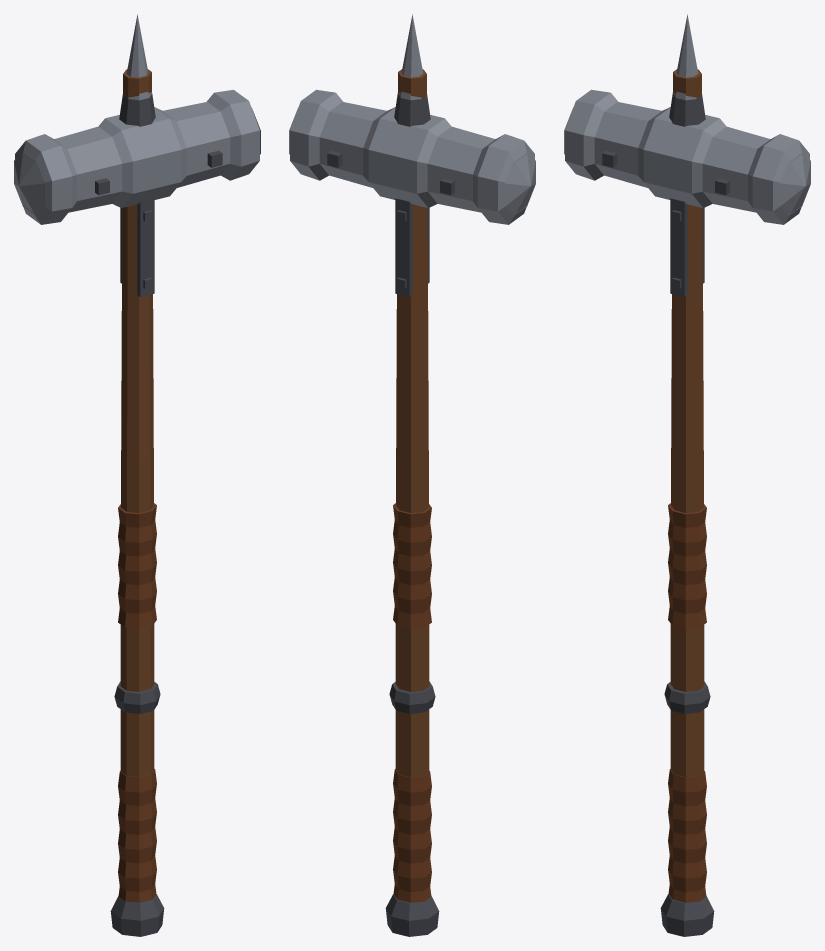
File: W2S_WarHammer.fbx
3 views of the same model, side by side, from view 1: azimuth 30°, elevation 25°; view 2: azimuth 150°, elevation 25°; view 3: azimuth 330°, elevation 25° (orthographic).
Parts seen in each view (by area): view 1: W2S_WarHammer; view 2: W2S_WarHammer; view 3: W2S_WarHammer.
Part boxes in pixels (bbox=[...]): W2S_WarHammer: bbox=[14, 14, 260, 936]; W2S_WarHammer: bbox=[289, 14, 535, 936]; W2S_WarHammer: bbox=[564, 14, 810, 936].
Bounding box in the file's own units: 29.4 × 109 × 10.
